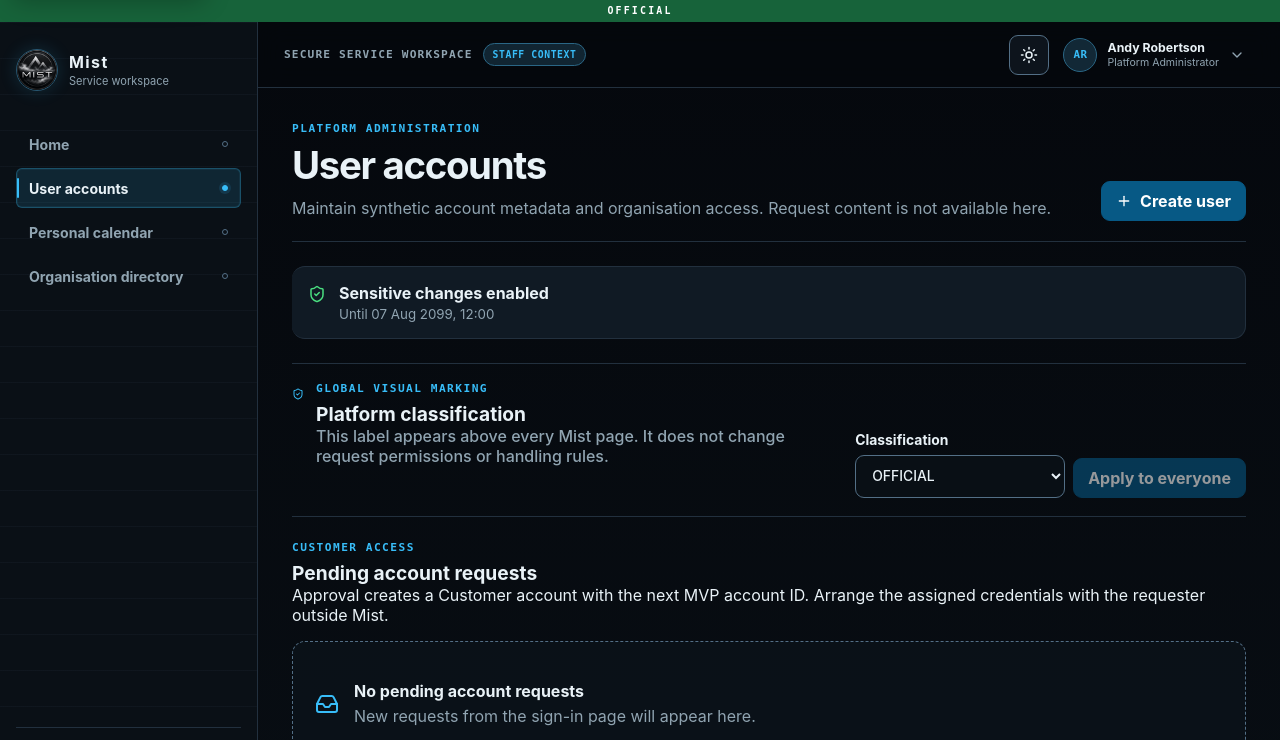
it: platform administrator user management › applies the global classification with optimistic version protection
Expected: the heading "Platform classification" is shown, [316, 402, 526, 426]
Select "OFFICIAL-SENSITIVE" in the dropdown labelled "Classification" at (960, 476), box [855, 455, 1065, 498]
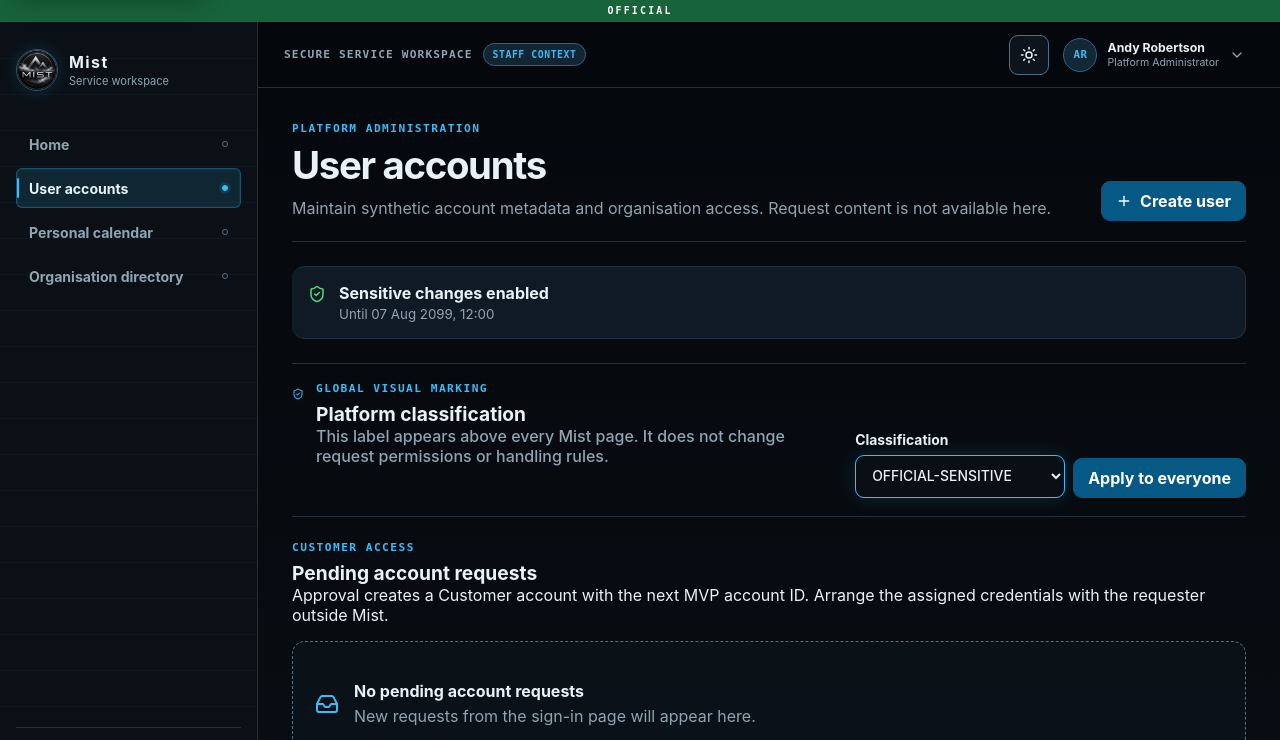
Click the button "Apply to everyone".
click(1160, 478)  # box [1073, 458, 1246, 498]
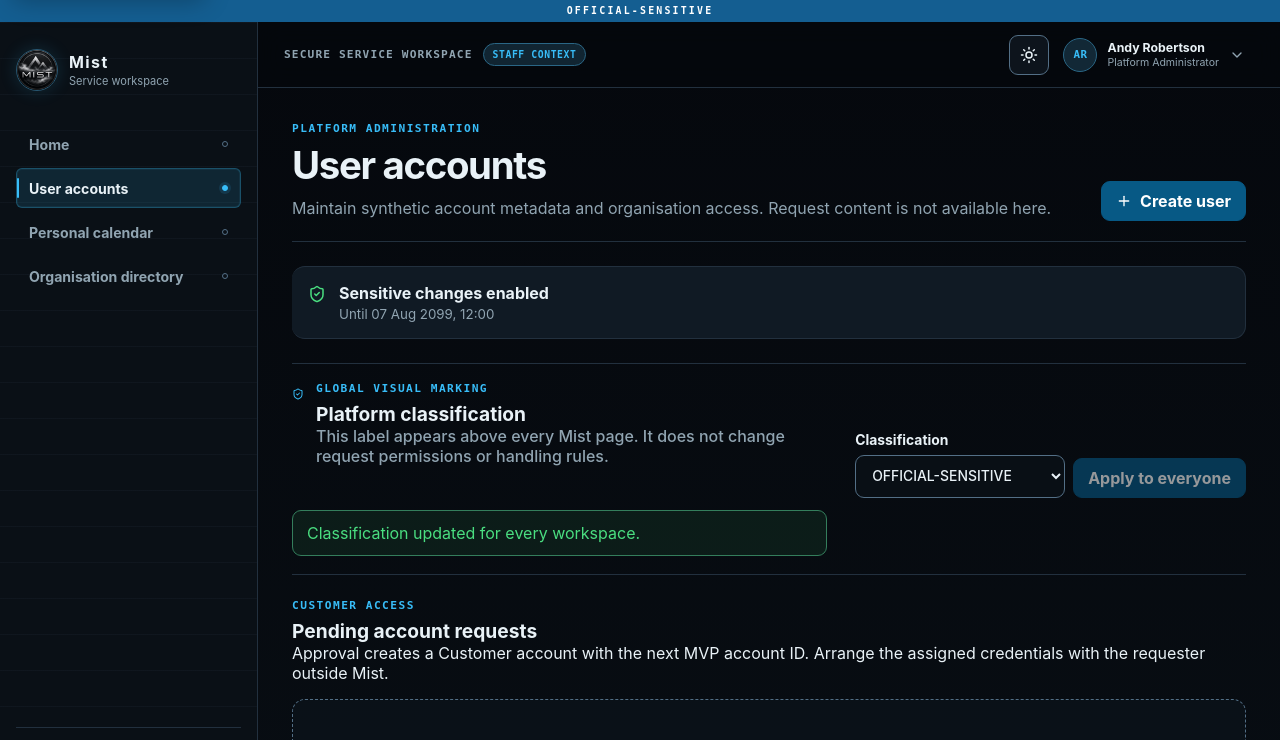
Expected: the element named "Security classification: OFFICIAL-SENSITIVE" is shown, [0, 0, 1279, 22]
Select "SECRET" in the dropdown labelled "Classification" at (960, 476), box [855, 455, 1065, 498]
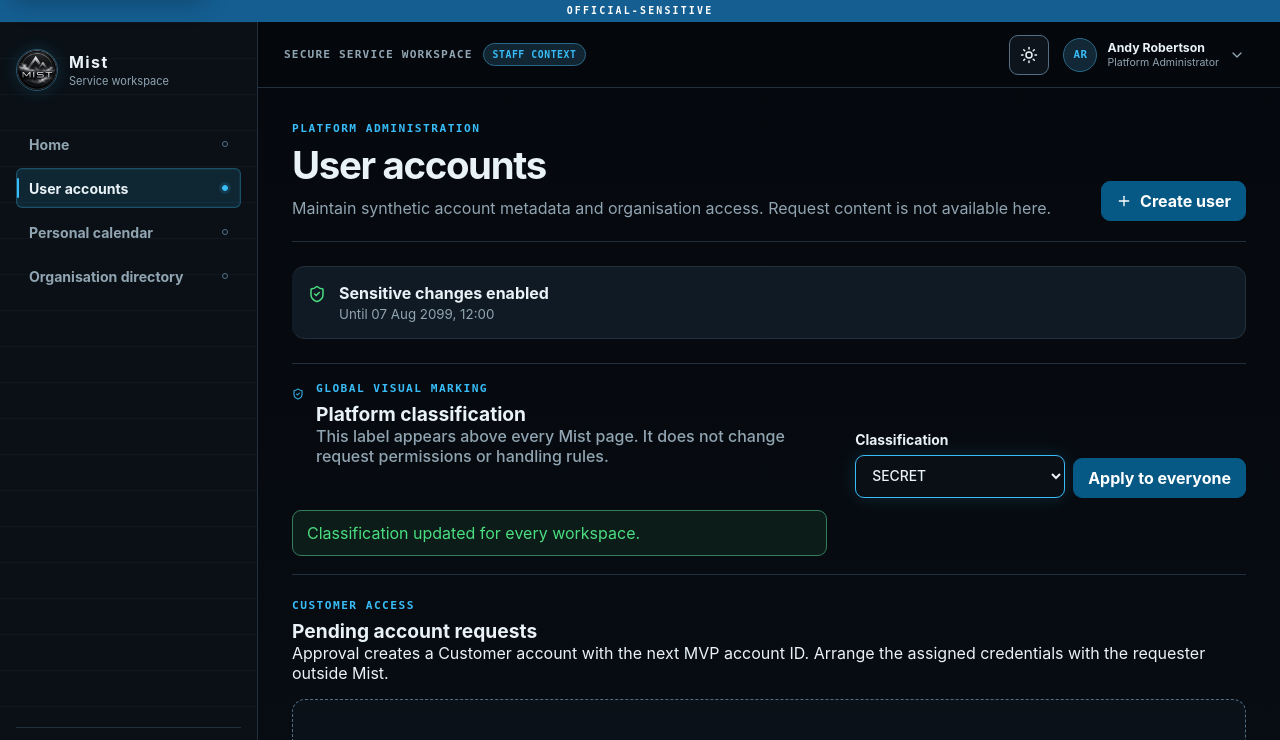
Click the button "Apply to everyone".
click(1160, 478)  # box [1073, 458, 1246, 498]
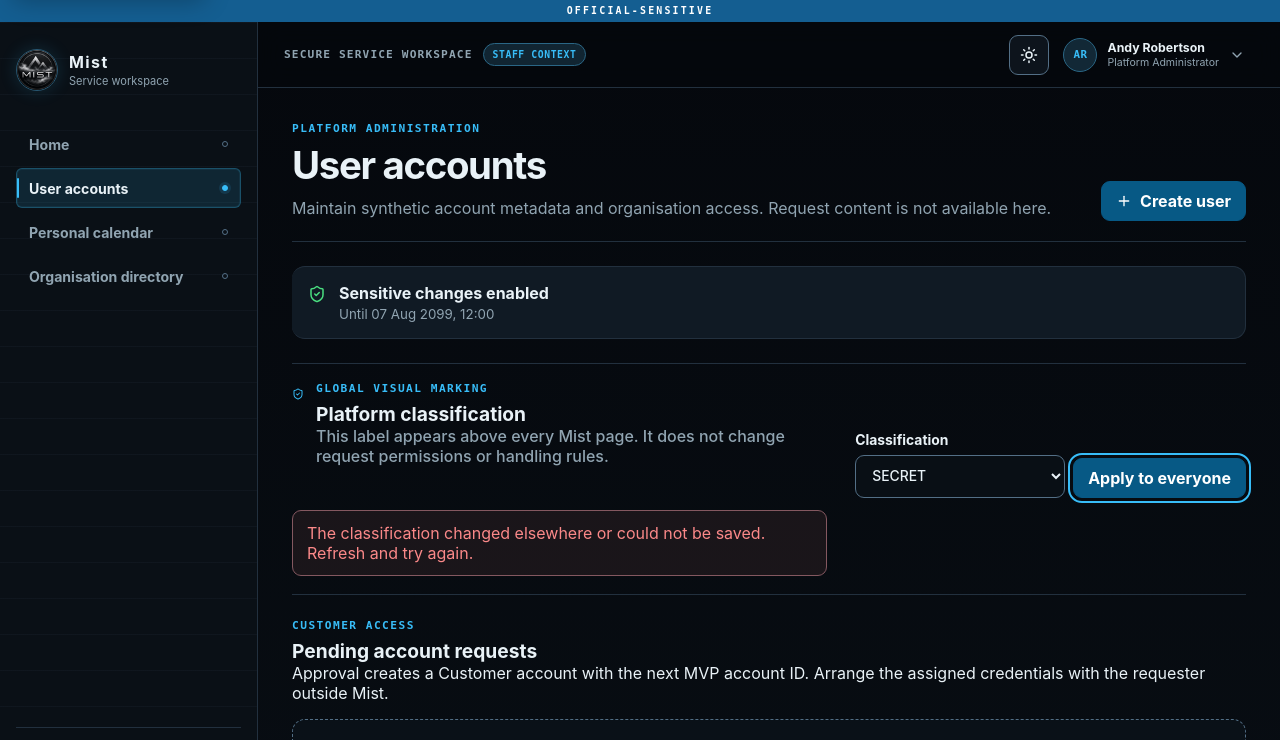
Expected: the 2nd message shows "changed elsewhere", [307, 523, 765, 563]
